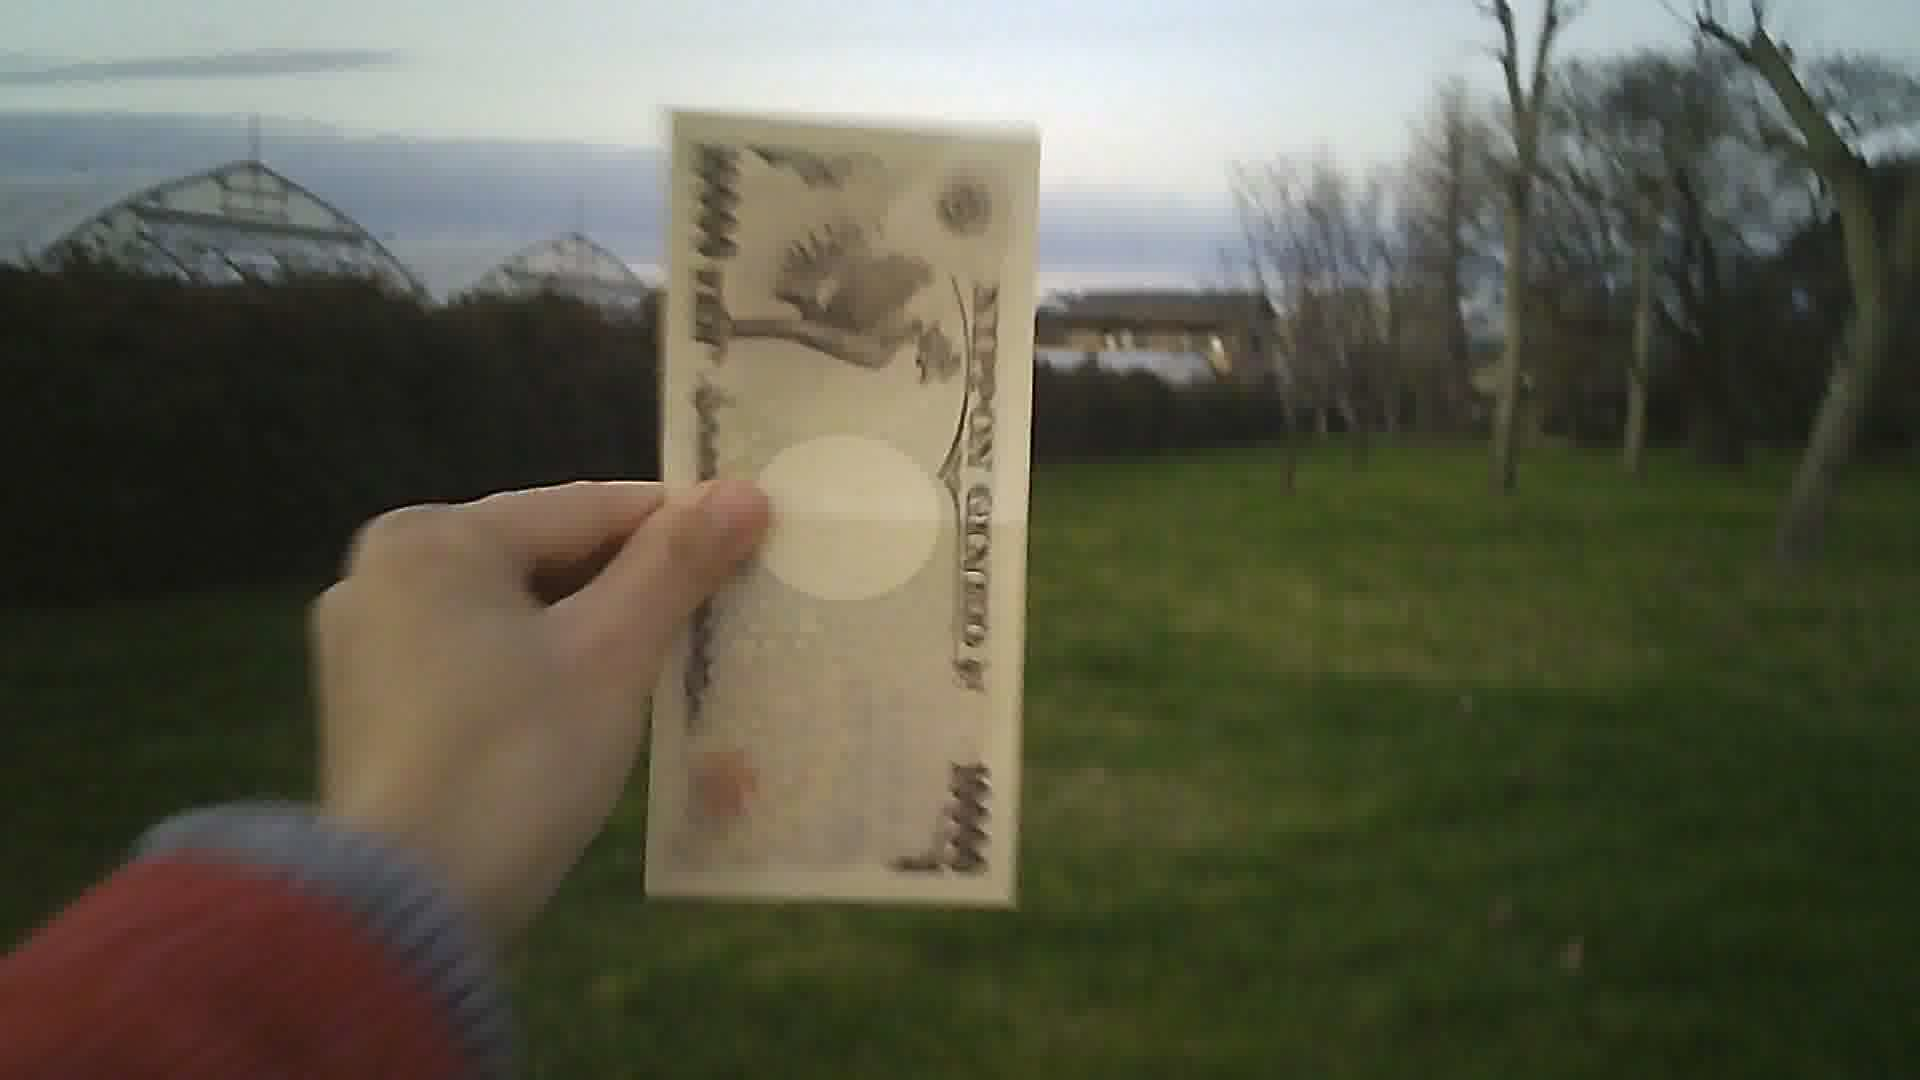10,000 Yen: (618, 94, 1029, 926)
